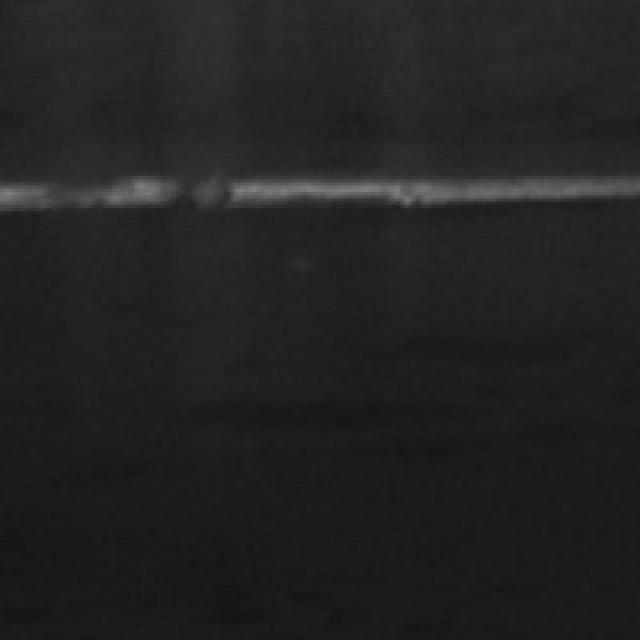scratches: (192, 148, 640, 215), (7, 157, 195, 221)
